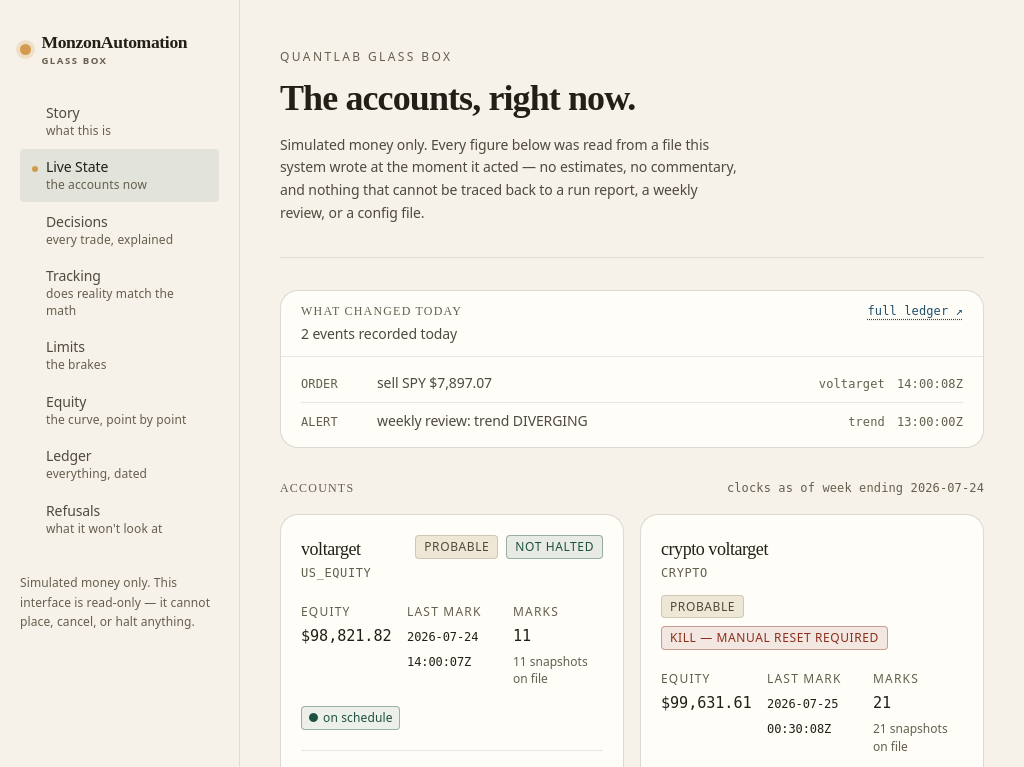
Test: App shell › navigates between screens without a reload
Click the link "Refusals what it won't look at" at (104, 519), box [46,501,162,537]
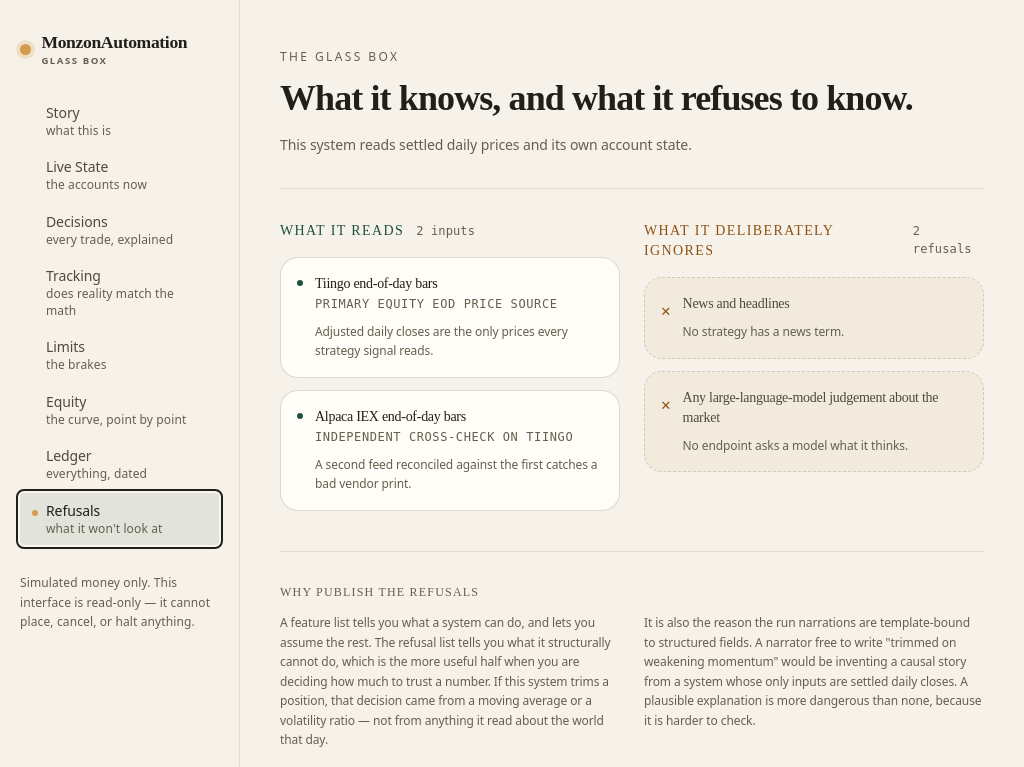
Check: the heading "What it knows, and what it refuses to know." is shown, box [280,78,984,118]
